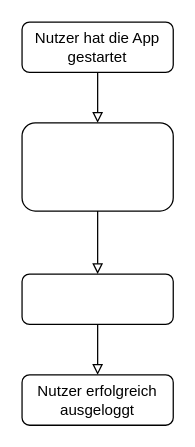
Some shapes in this 195 by 447 pixel diagram are drawn without their labels. Each missing label, with the centre of its shape:
Nutzer befindet sich im Hauptmenü (nach Login oder Registrierung): point 97,166
Nutzer wählt "Log out": point 97,298
